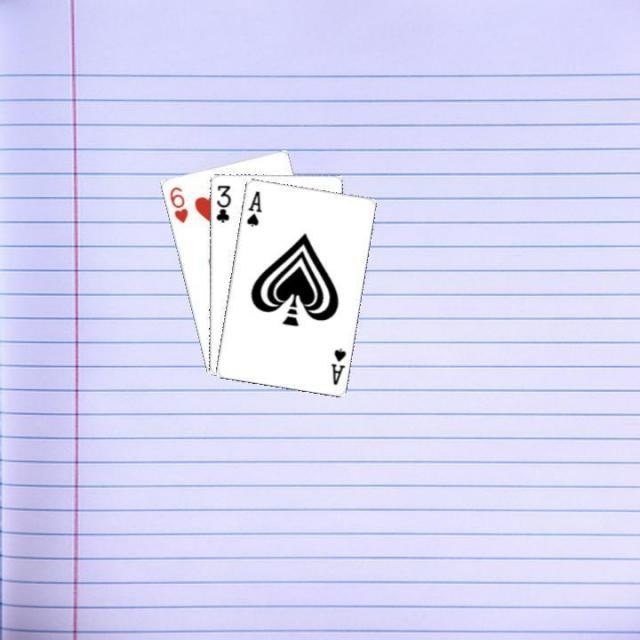3C: (212, 181, 232, 223)
6H: (166, 182, 190, 224)
AS: (243, 187, 263, 229), (327, 344, 347, 386)
